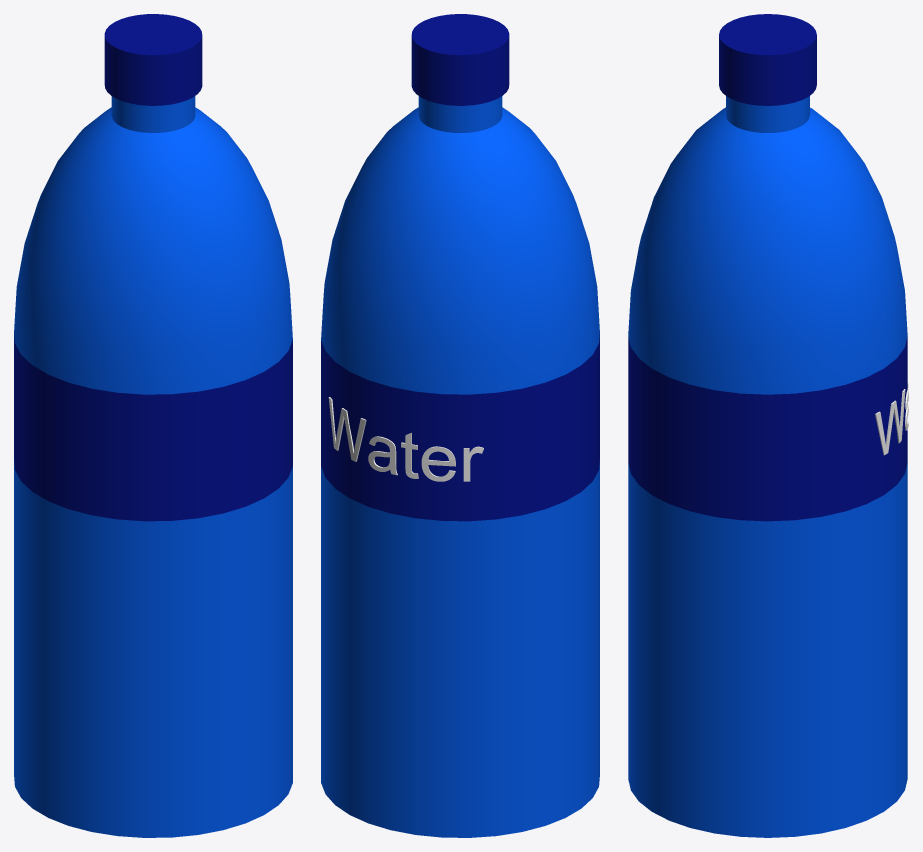
The model's file is Flesje(textured).FBX.
The picture shows the model from 3 angles, left to right: view 1: azimuth 30°, elevation 25°; view 2: azimuth 150°, elevation 25°; view 3: azimuth 270°, elevation 25°; orthographic projection.
Visible parts, largest first — view 1: Cylinder010, Sphere001, Cylinder011, Cylinder013, Cylinder012; view 2: Cylinder010, Sphere001, Cylinder011, Cylinder013, TextPlus001, Cylinder012; view 3: Cylinder010, Sphere001, Cylinder011, Cylinder013, Cylinder012, TextPlus001.
Boxes of the visible parts, x1=… form: Cylinder010: x1=14, y1=460, x2=292, y2=837; Sphere001: x1=14, y1=107, x2=292, y2=394; Cylinder011: x1=14, y1=334, x2=292, y2=521; Cylinder013: x1=104, y1=14, x2=202, y2=105; Cylinder012: x1=111, y1=96, x2=195, y2=132; Cylinder010: x1=321, y1=460, x2=599, y2=837; Sphere001: x1=321, y1=107, x2=599, y2=394; Cylinder011: x1=321, y1=334, x2=599, y2=521; Cylinder013: x1=411, y1=14, x2=509, y2=105; TextPlus001: x1=328, y1=397, x2=483, y2=481; Cylinder012: x1=418, y1=96, x2=502, y2=132; Cylinder010: x1=628, y1=463, x2=907, y2=837; Sphere001: x1=628, y1=107, x2=907, y2=394; Cylinder011: x1=628, y1=336, x2=907, y2=521; Cylinder013: x1=719, y1=14, x2=816, y2=105; Cylinder012: x1=726, y1=96, x2=809, y2=132; TextPlus001: x1=875, y1=382, x2=908, y2=455.
Size of the model in its own units: 4.75 by 13.95 by 4.77.
